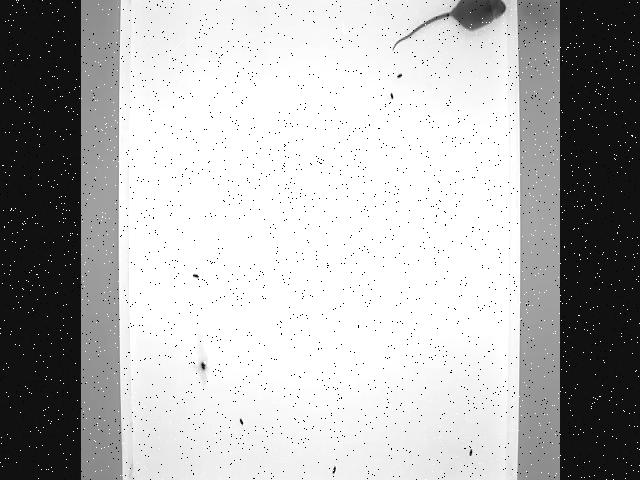Tikus: (386, 0, 510, 67)
